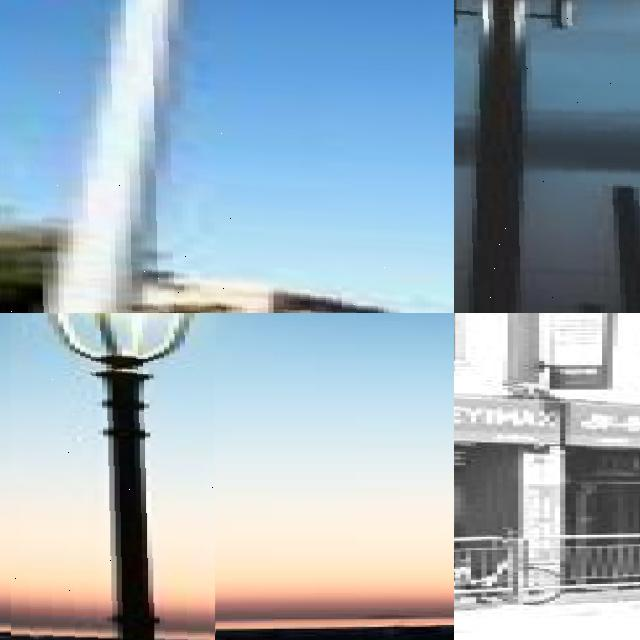street light: (0, 0, 454, 313), (10, 313, 215, 640), (454, 0, 640, 313)
